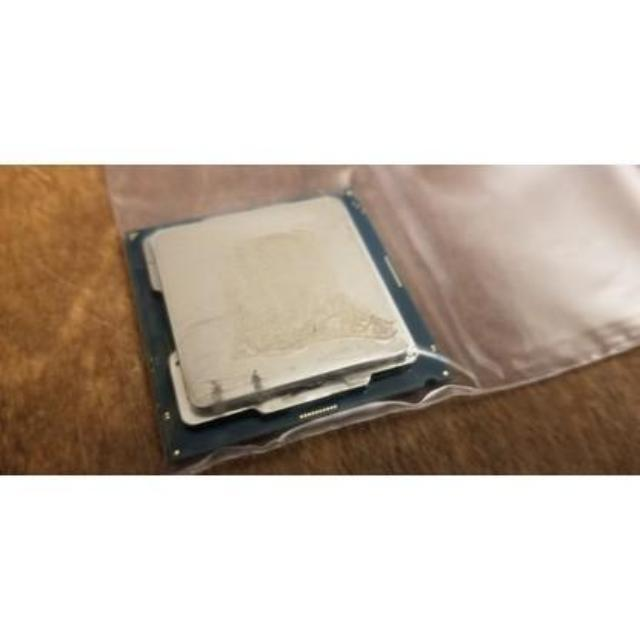CPU: (137, 197, 426, 423)
